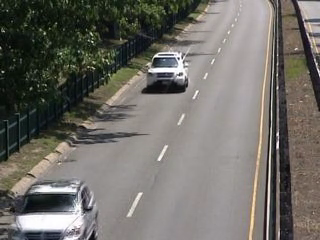car: (7, 178, 106, 240), (142, 48, 196, 96)
